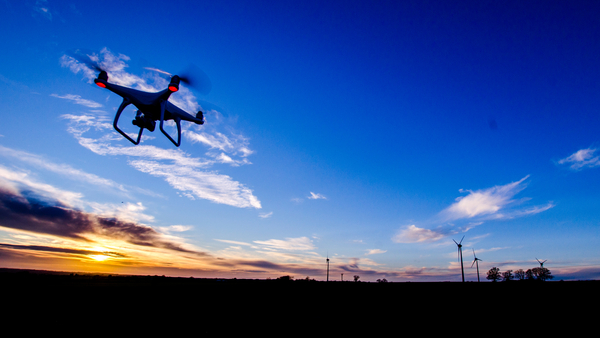drone: (87, 63, 209, 149)
